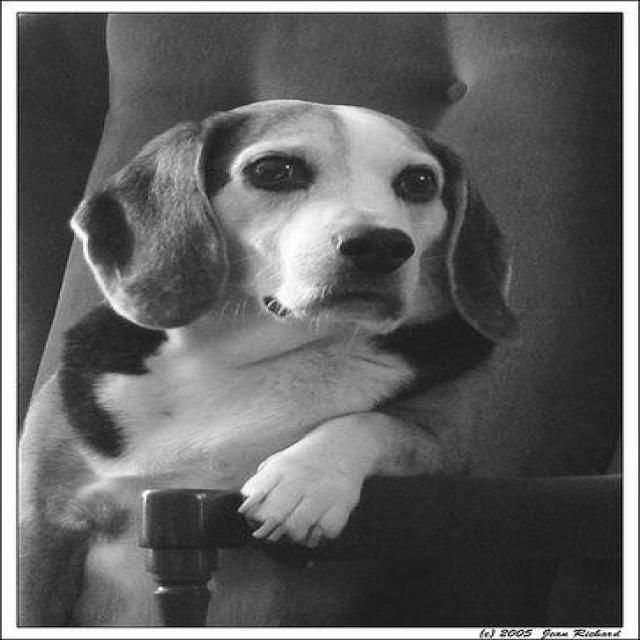beagle: (14, 97, 522, 628)
